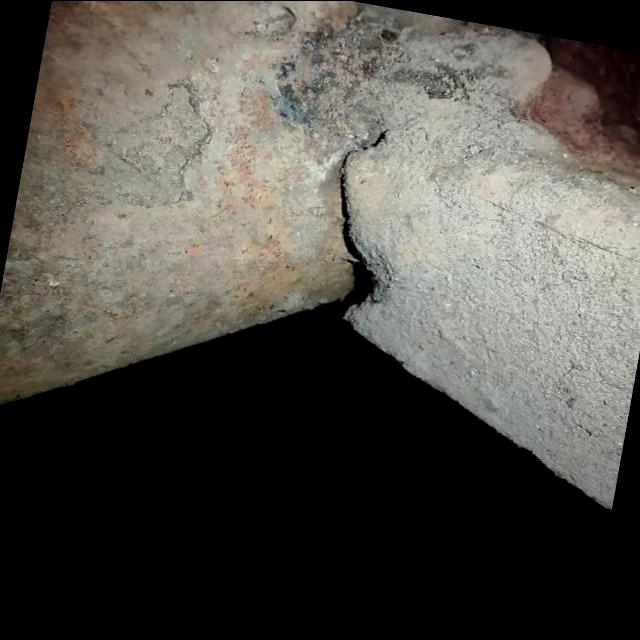defect: (335, 121, 394, 317)
